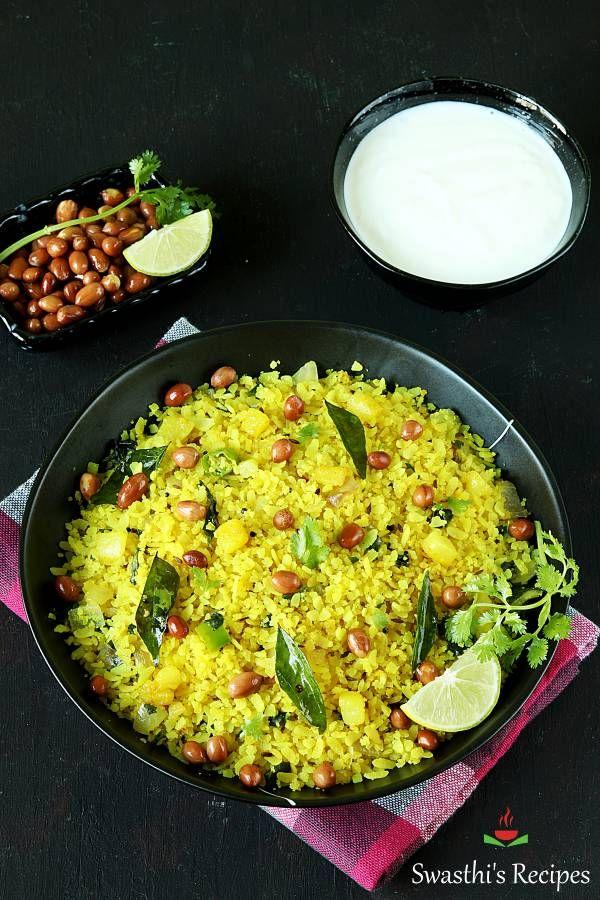poha: (48, 331, 564, 822)
yogurt: (351, 92, 569, 276)
